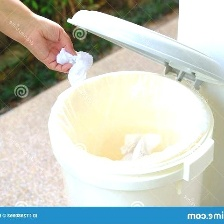tissue: (48, 43, 98, 91), (116, 127, 166, 165)
